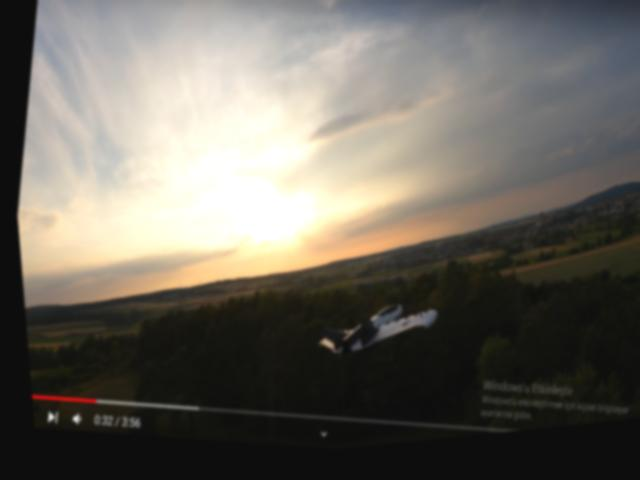plane: (306, 292, 437, 382)
